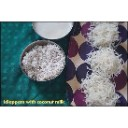idiyappam: (80, 74, 118, 105), (27, 48, 61, 77), (87, 49, 123, 75), (88, 22, 120, 49)
